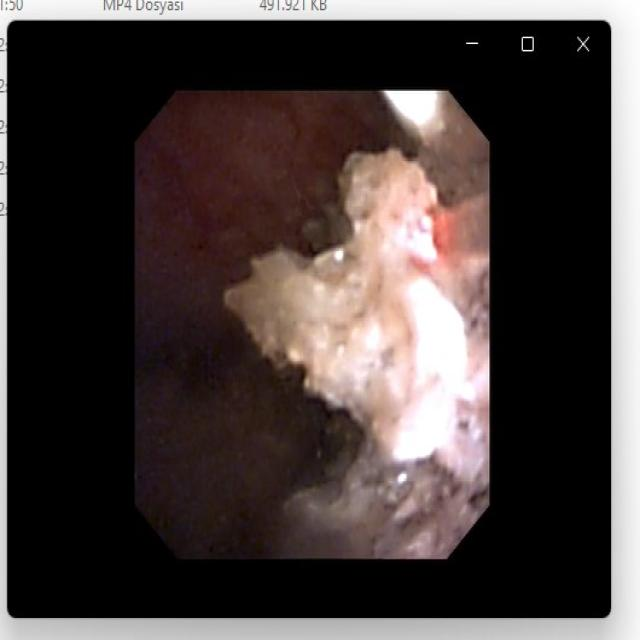stone: (228, 97, 484, 551)
